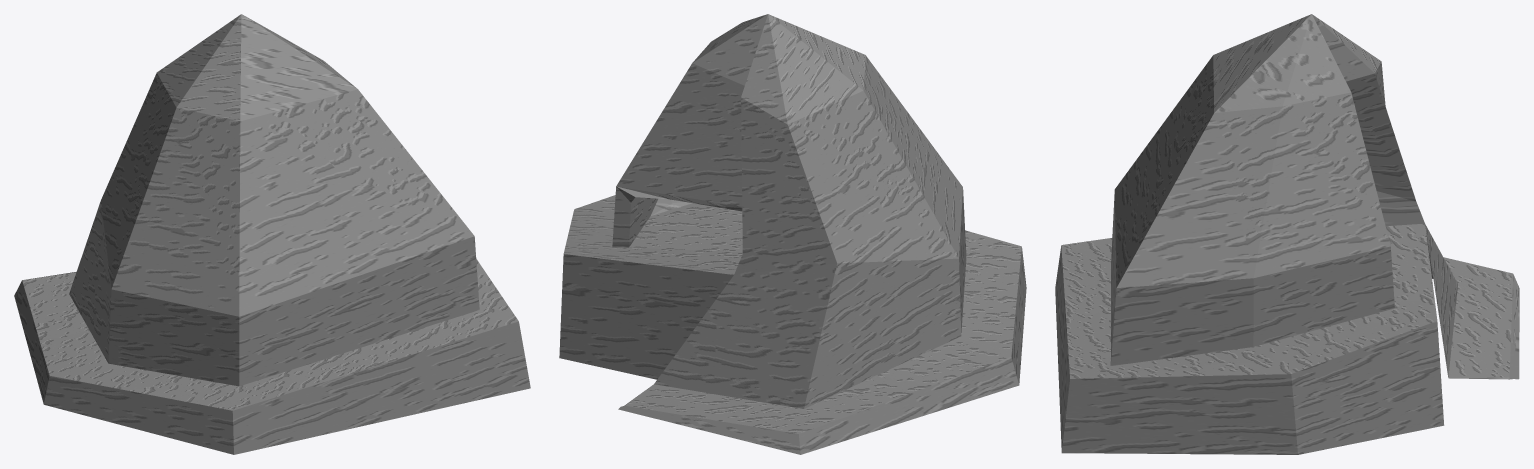
File: mountain.FBX
3 views of the same model, side by side, from view 1: azimuth 30°, elevation 25°; view 2: azimuth 150°, elevation 25°; view 3: azimuth 270°, elevation 25° (orthographic). The views are drawn at different scales.
Parts seen in each view (by area): view 1: Plane001; view 2: Plane001; view 3: Plane001.
Boxes of the visible parts, left/top/right/bottom form: Plane001: left=14, top=14, right=530, bottom=454; Plane001: left=559, top=14, right=1026, bottom=454; Plane001: left=1055, top=14, right=1519, bottom=454.
Size of the model in its own units: 789 by 590 by 709.
1 material, 1 textured.
